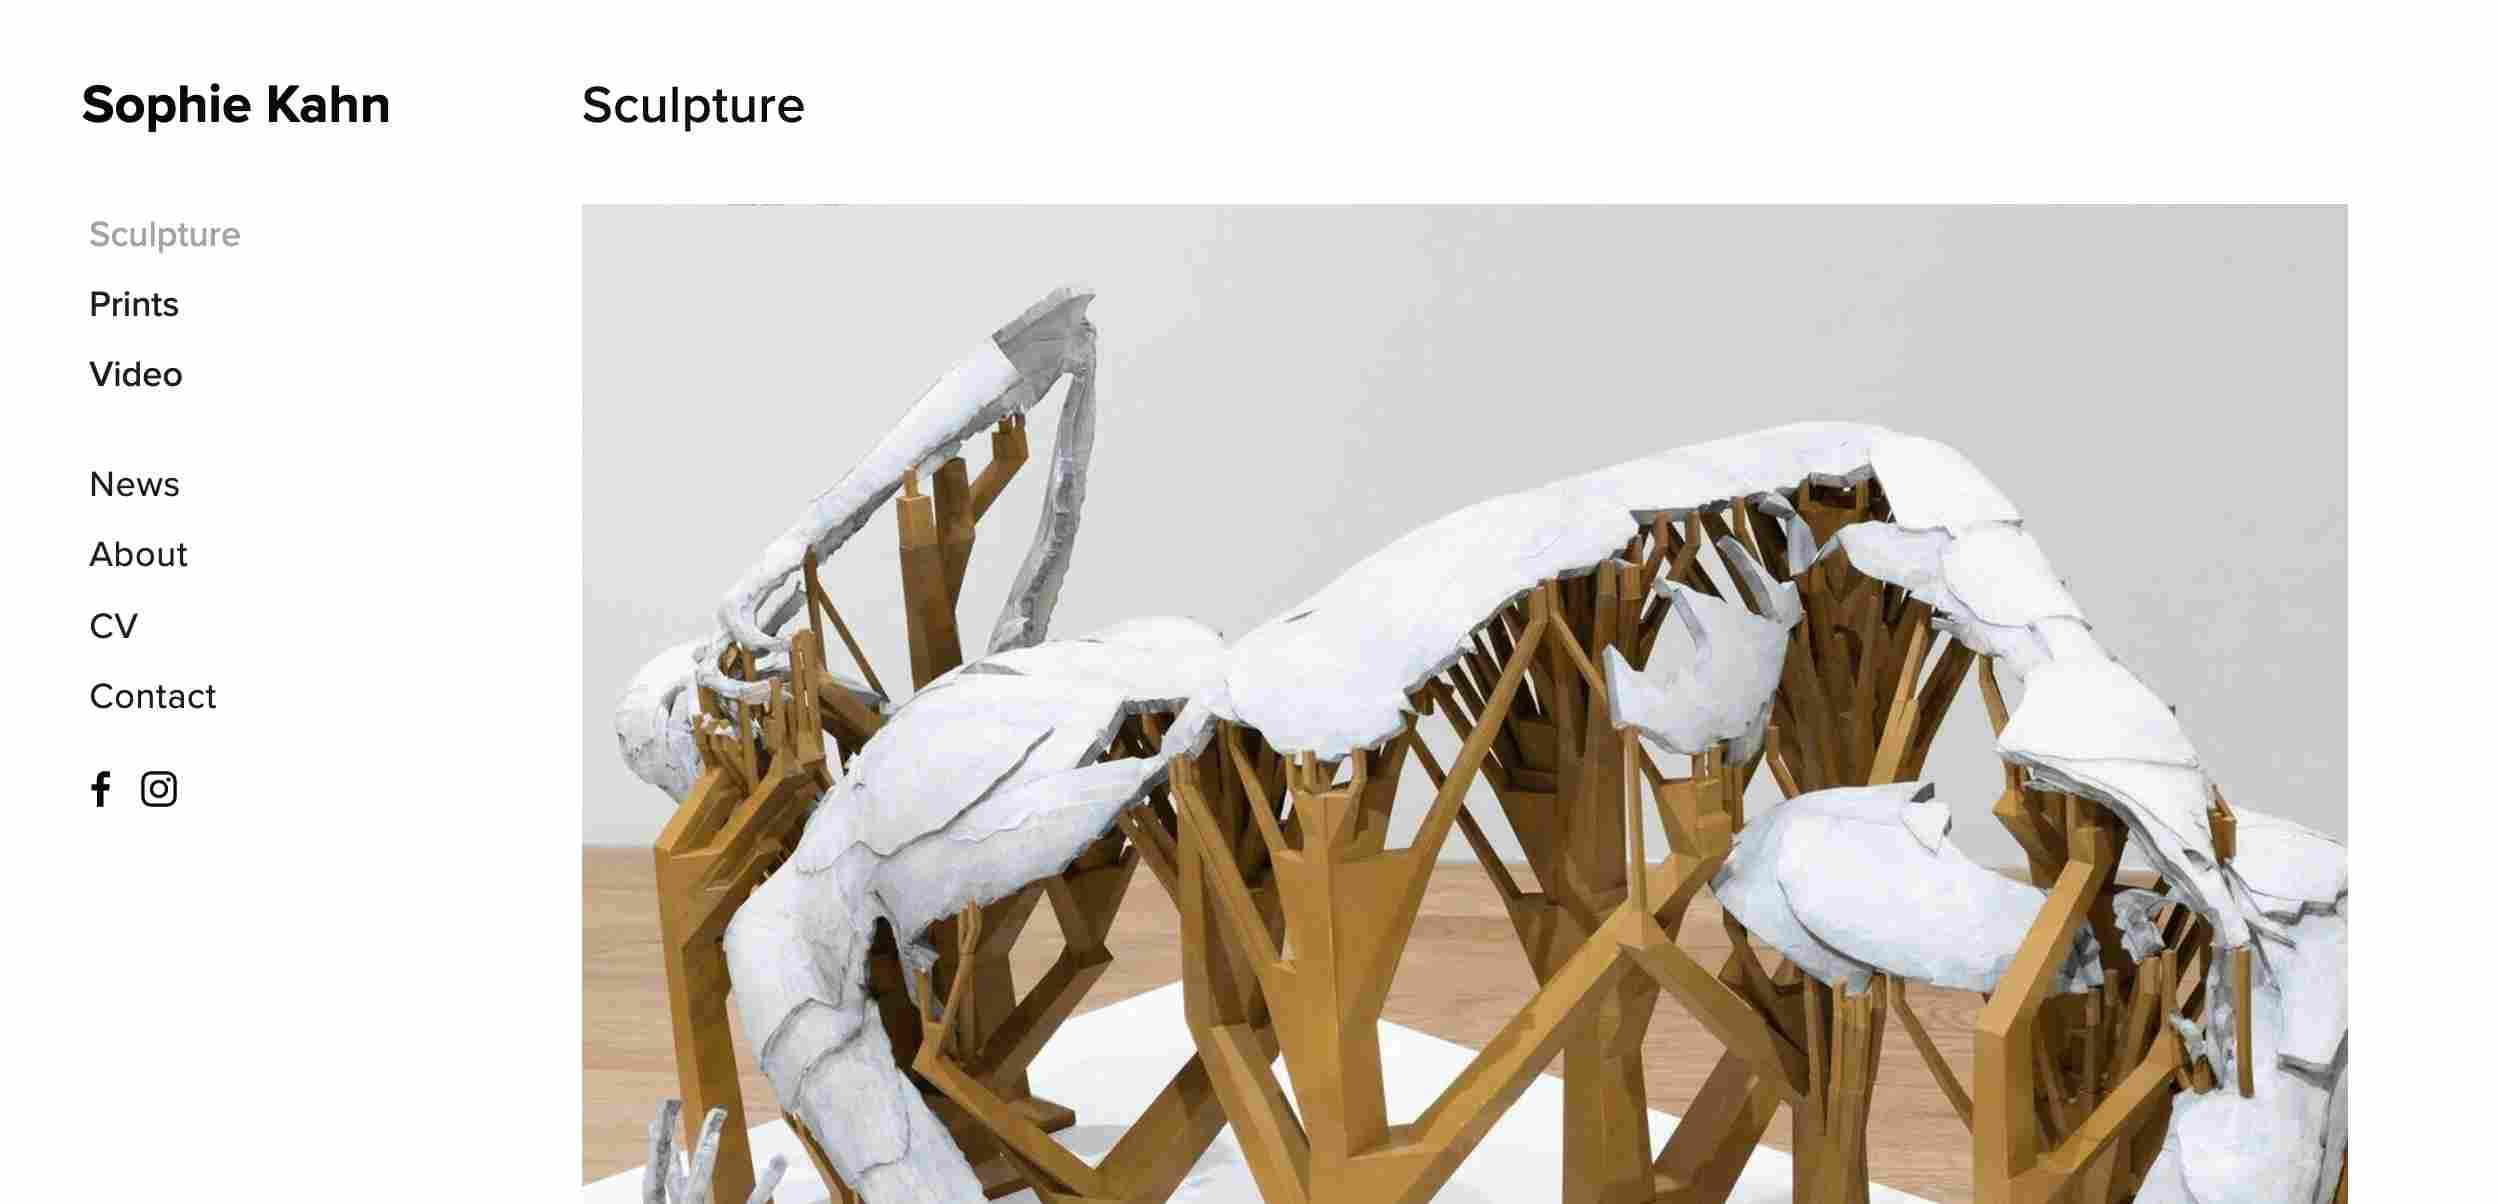Image: (586, 210, 2347, 1204)
Side Bar: (53, 61, 452, 952)
